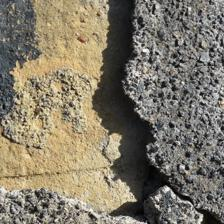Crack: (42, 15, 136, 125), (0, 110, 166, 164)
